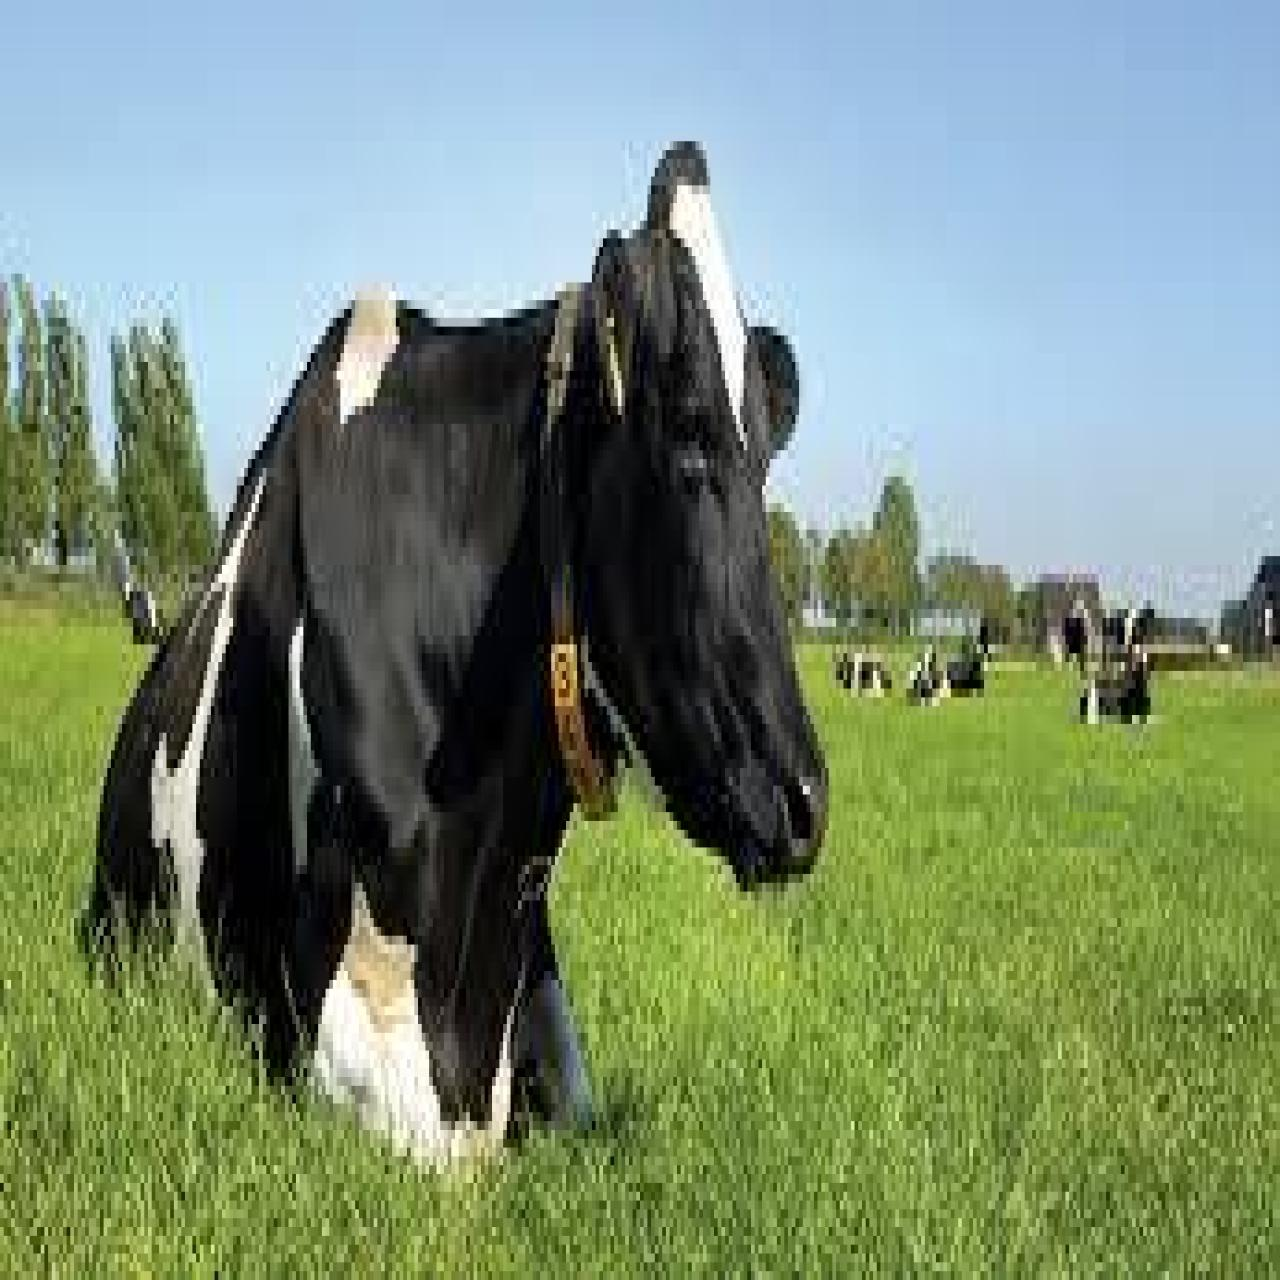cow: (77, 128, 832, 1178), (1077, 645, 1155, 733), (935, 632, 992, 702), (118, 578, 170, 648), (836, 645, 896, 697), (908, 640, 938, 702)
